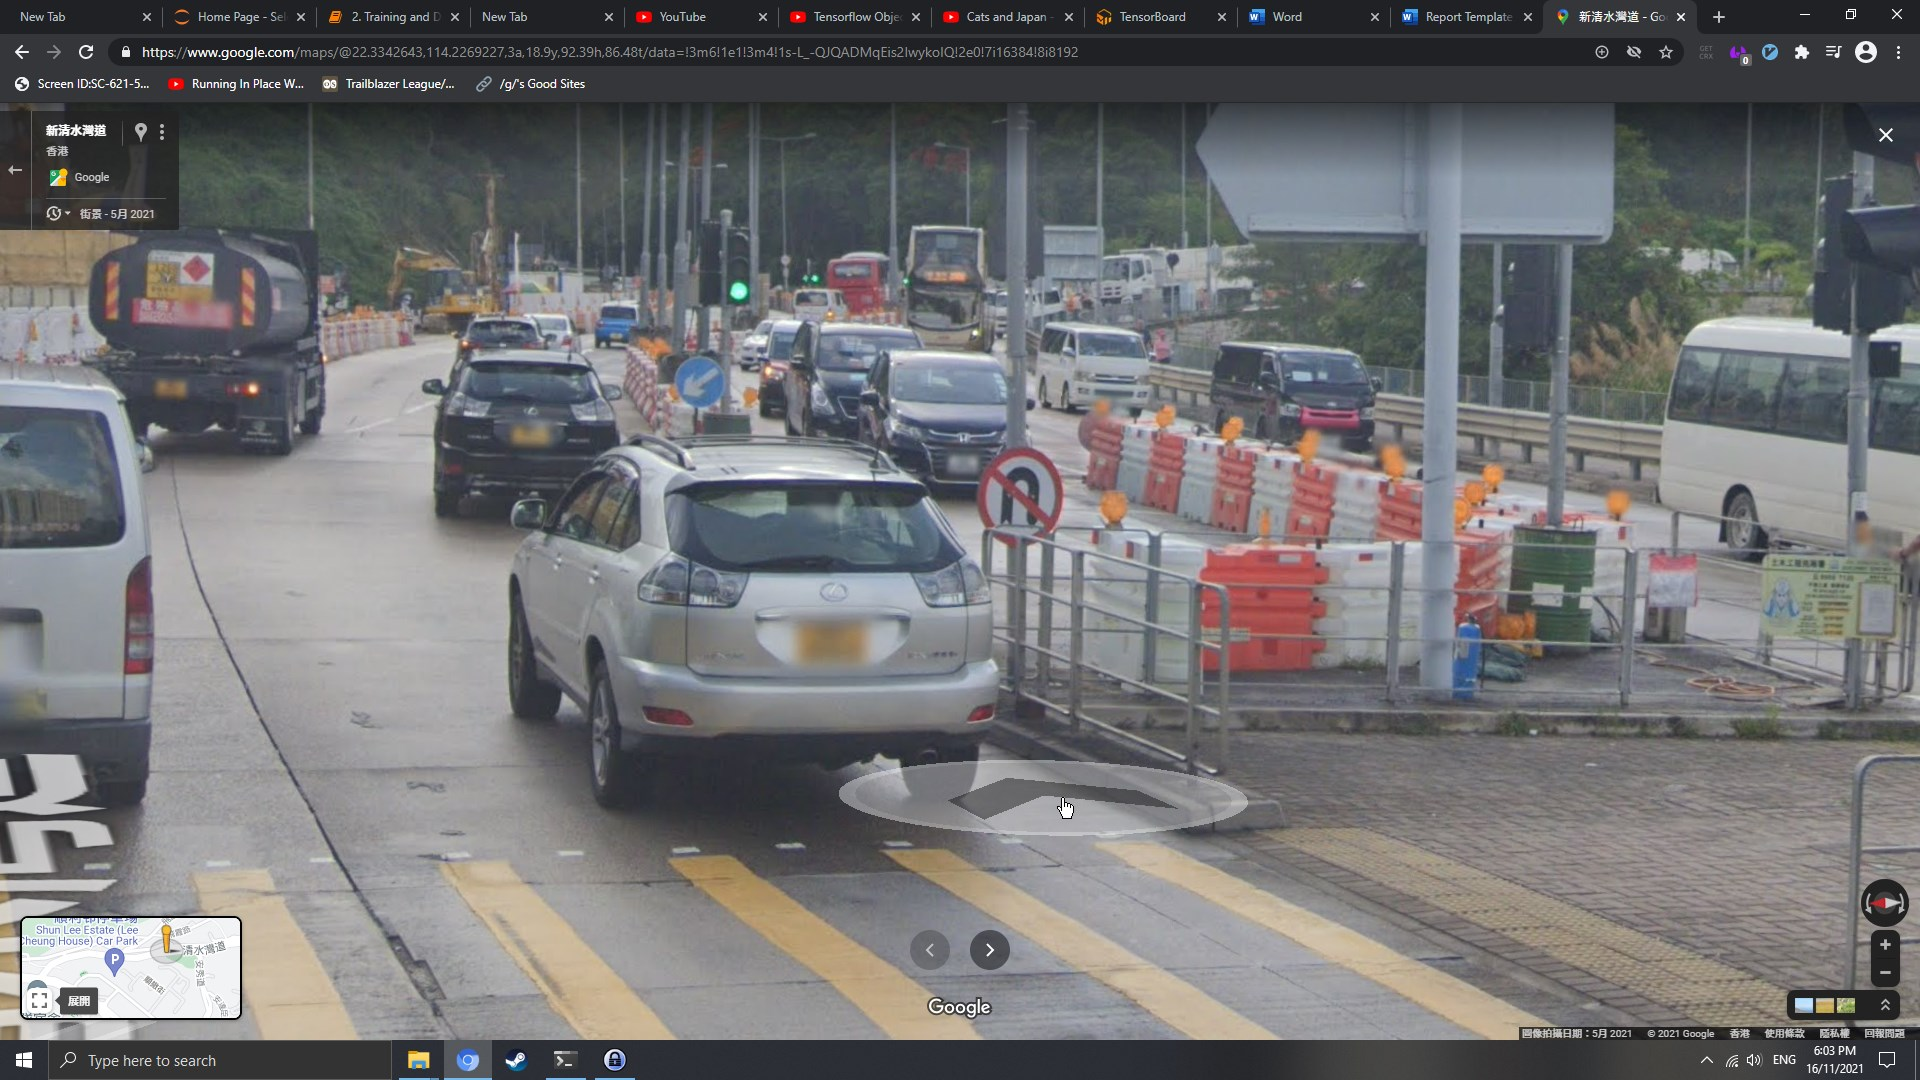NoUTurn: (977, 448, 1064, 547)
